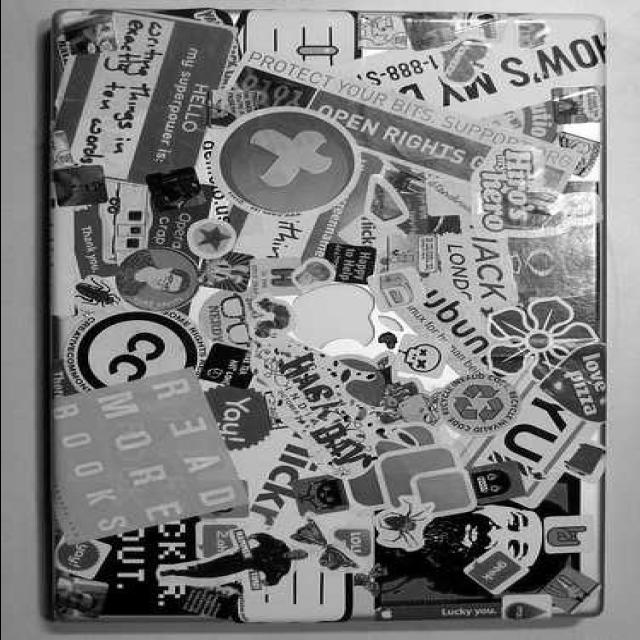laptop: (45, 20, 599, 623)
